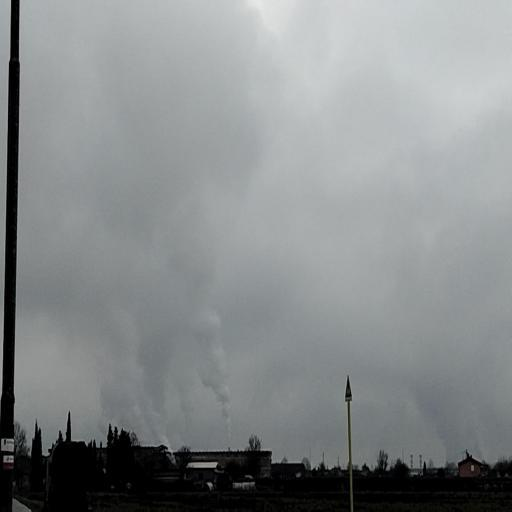leakage: (64, 219, 238, 470)
